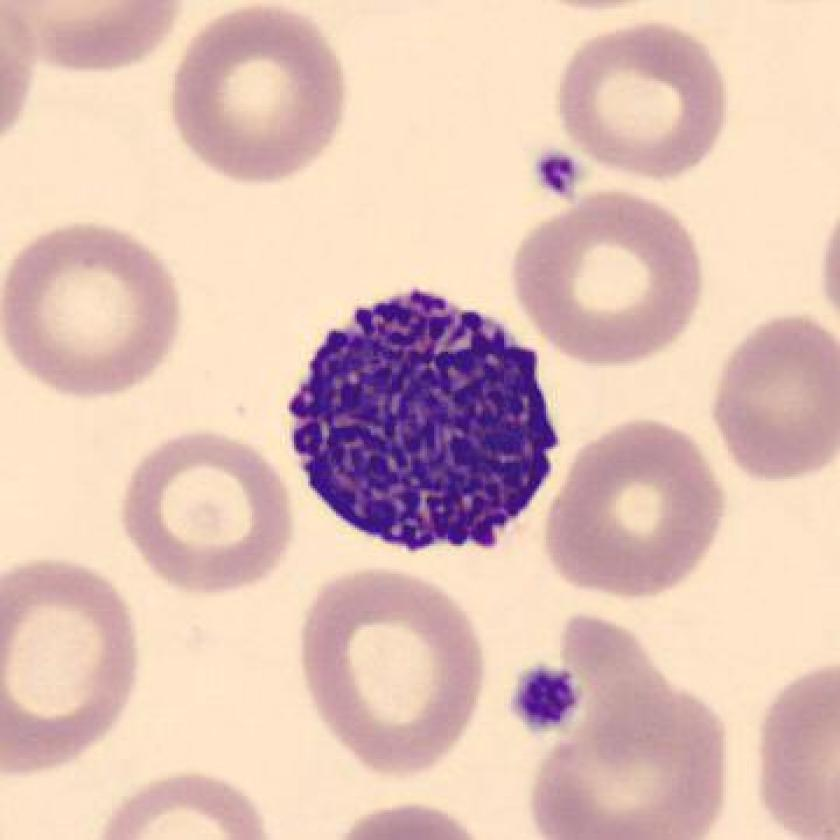basophil: (272, 281, 559, 563)
